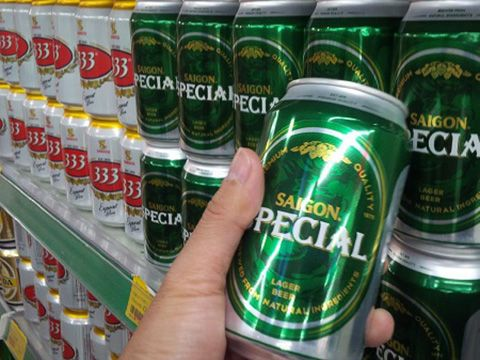333: (92, 165, 119, 186), (123, 177, 141, 201), (64, 152, 85, 171), (28, 130, 45, 148), (33, 42, 51, 58)
biasaigon: (274, 186, 344, 221), (410, 111, 469, 130), (183, 69, 217, 85), (236, 81, 271, 95), (136, 61, 163, 76)
